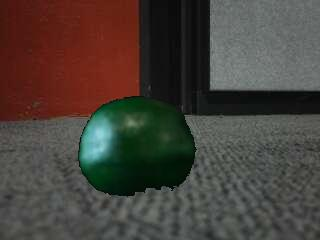Lime: (75, 94, 200, 198)
